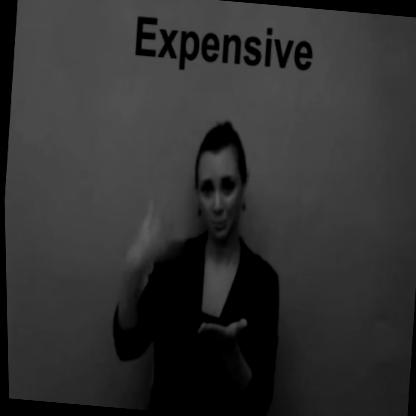Expensive: (118, 194, 264, 365)
